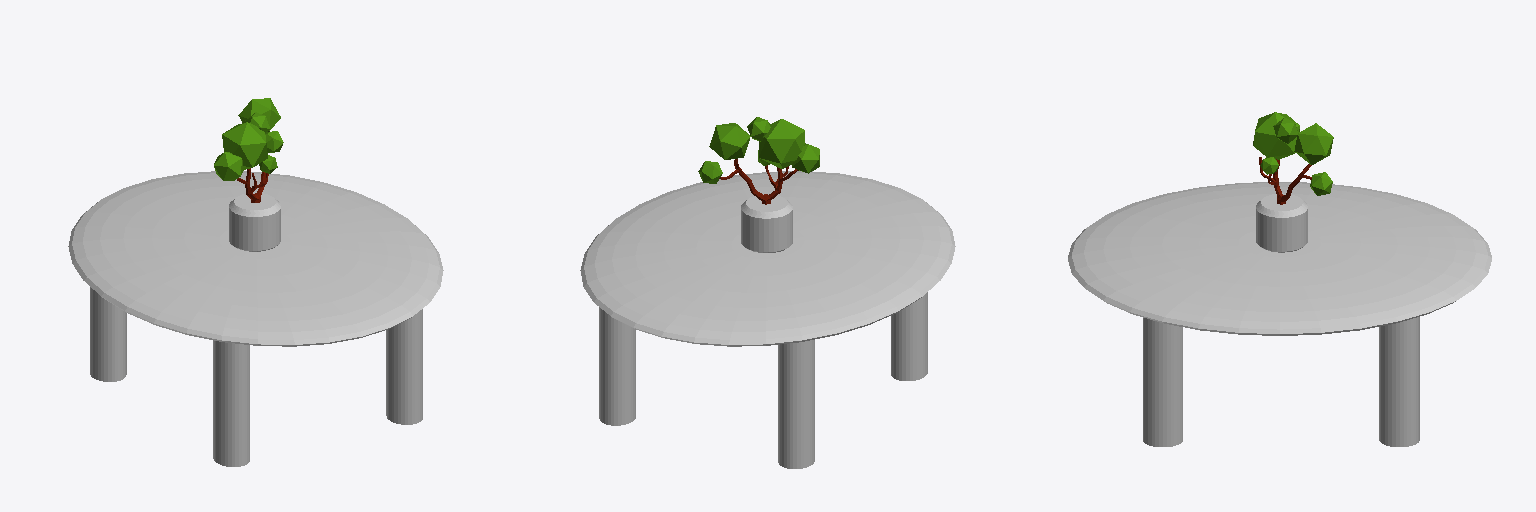
The model's file is table.obj.
The picture shows the model from 3 angles: view 1: azimuth 30°, elevation 25°; view 2: azimuth 150°, elevation 25°; view 3: azimuth 270°, elevation 25°; orthographic projection.
Visible parts, largest first — view 1: Sphere, Cylinder.003_Cylinder.005, Tree_lp_11, Cylinder.002_Cylinder.004, Cylinder.004_Cylinder.006, Cylinder; view 2: Sphere, Tree_lp_11, Cylinder.004_Cylinder.006, Cylinder.001_Cylinder.003, Cylinder.003_Cylinder.005, Cylinder; view 3: Sphere, Cylinder.001_Cylinder.003, Cylinder.002_Cylinder.004, Tree_lp_11, Cylinder.
Part boxes in pixels (x1,y1,x2,y2): Sphere: (68,171,443,346); Cylinder.003_Cylinder.005: (213,340,249,466); Tree_lp_11: (214,98,283,202); Cylinder.002_Cylinder.004: (386,309,422,424); Cylinder.004_Cylinder.006: (90,287,126,381); Cylinder: (229,193,280,251); Sphere: (580,171,955,346); Tree_lp_11: (698,117,819,204); Cylinder.004_Cylinder.006: (778,340,814,468); Cylinder.001_Cylinder.003: (599,307,635,425); Cylinder.003_Cylinder.005: (891,292,927,380); Cylinder: (741,194,792,252); Sphere: (1068,182,1491,335); Cylinder.001_Cylinder.003: (1379,317,1419,446); Cylinder.002_Cylinder.004: (1143,318,1182,446); Tree_lp_11: (1253,112,1333,204); Cylinder: (1256,193,1307,252).
Size of the model in its own units: 8.95 by 7.73 by 10.65.